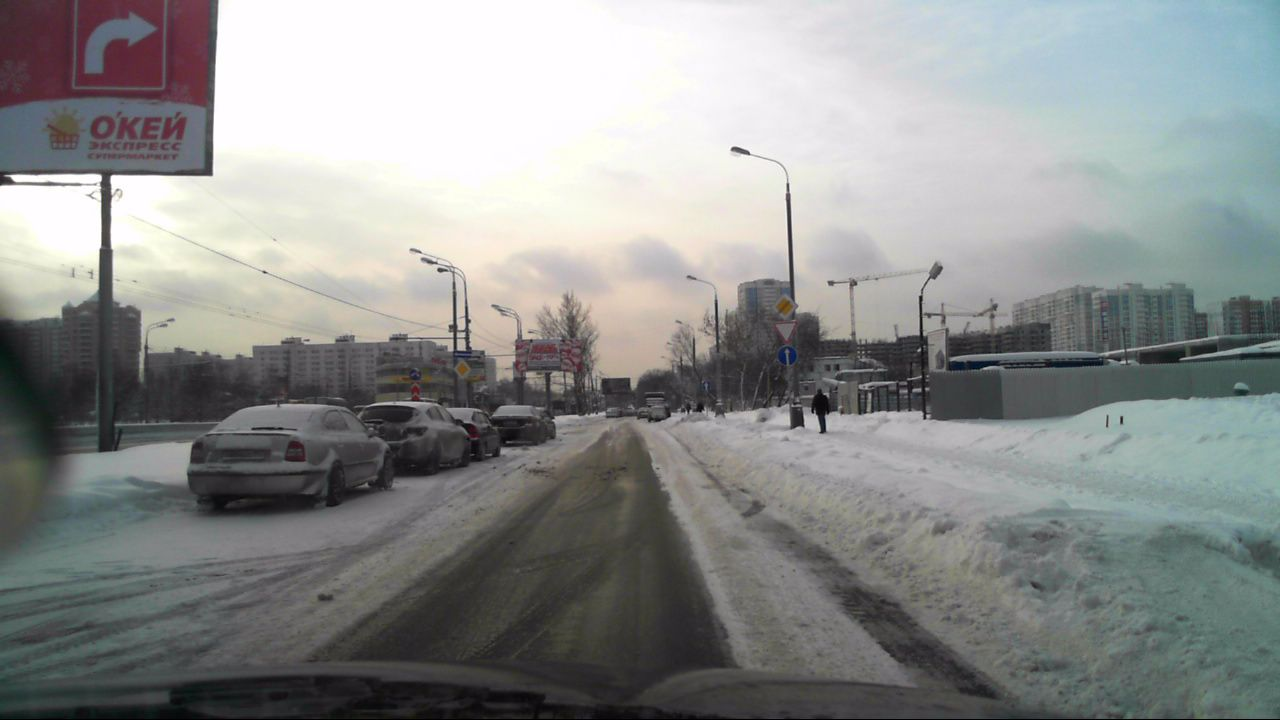main road: (774, 293, 797, 317)
